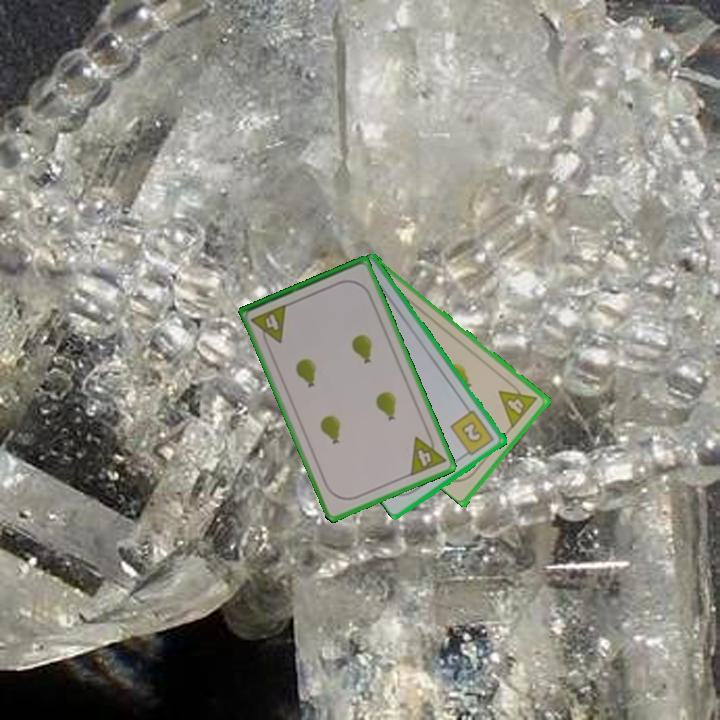2b: (447, 407, 497, 460)
4p: (495, 377, 541, 430), (406, 428, 449, 479), (248, 301, 290, 350)
